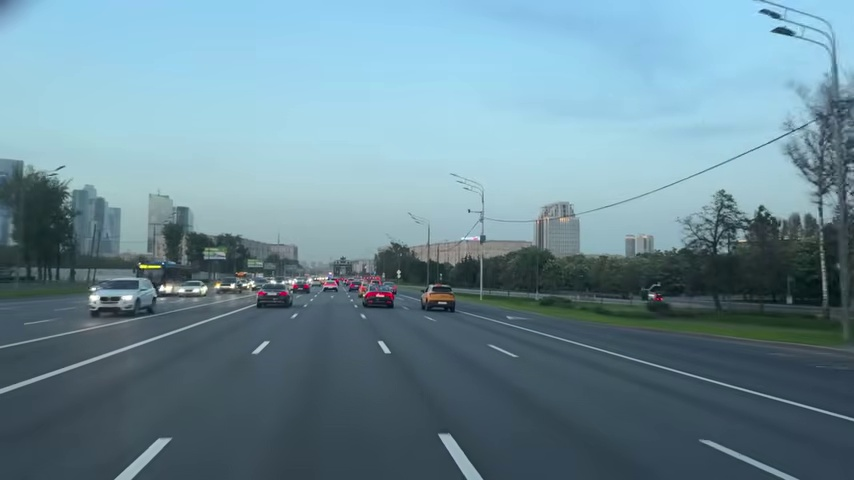apagada: (136, 434, 172, 470), (757, 6, 795, 40), (759, 19, 795, 41)
